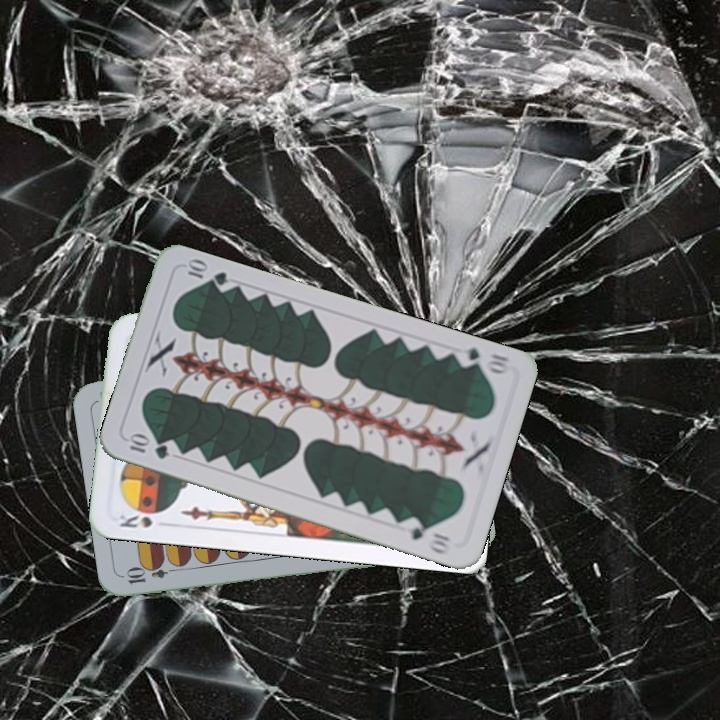E10: (122, 562, 181, 587)
G10: (452, 343, 513, 377), (123, 431, 171, 462)
SK: (115, 507, 155, 531)
